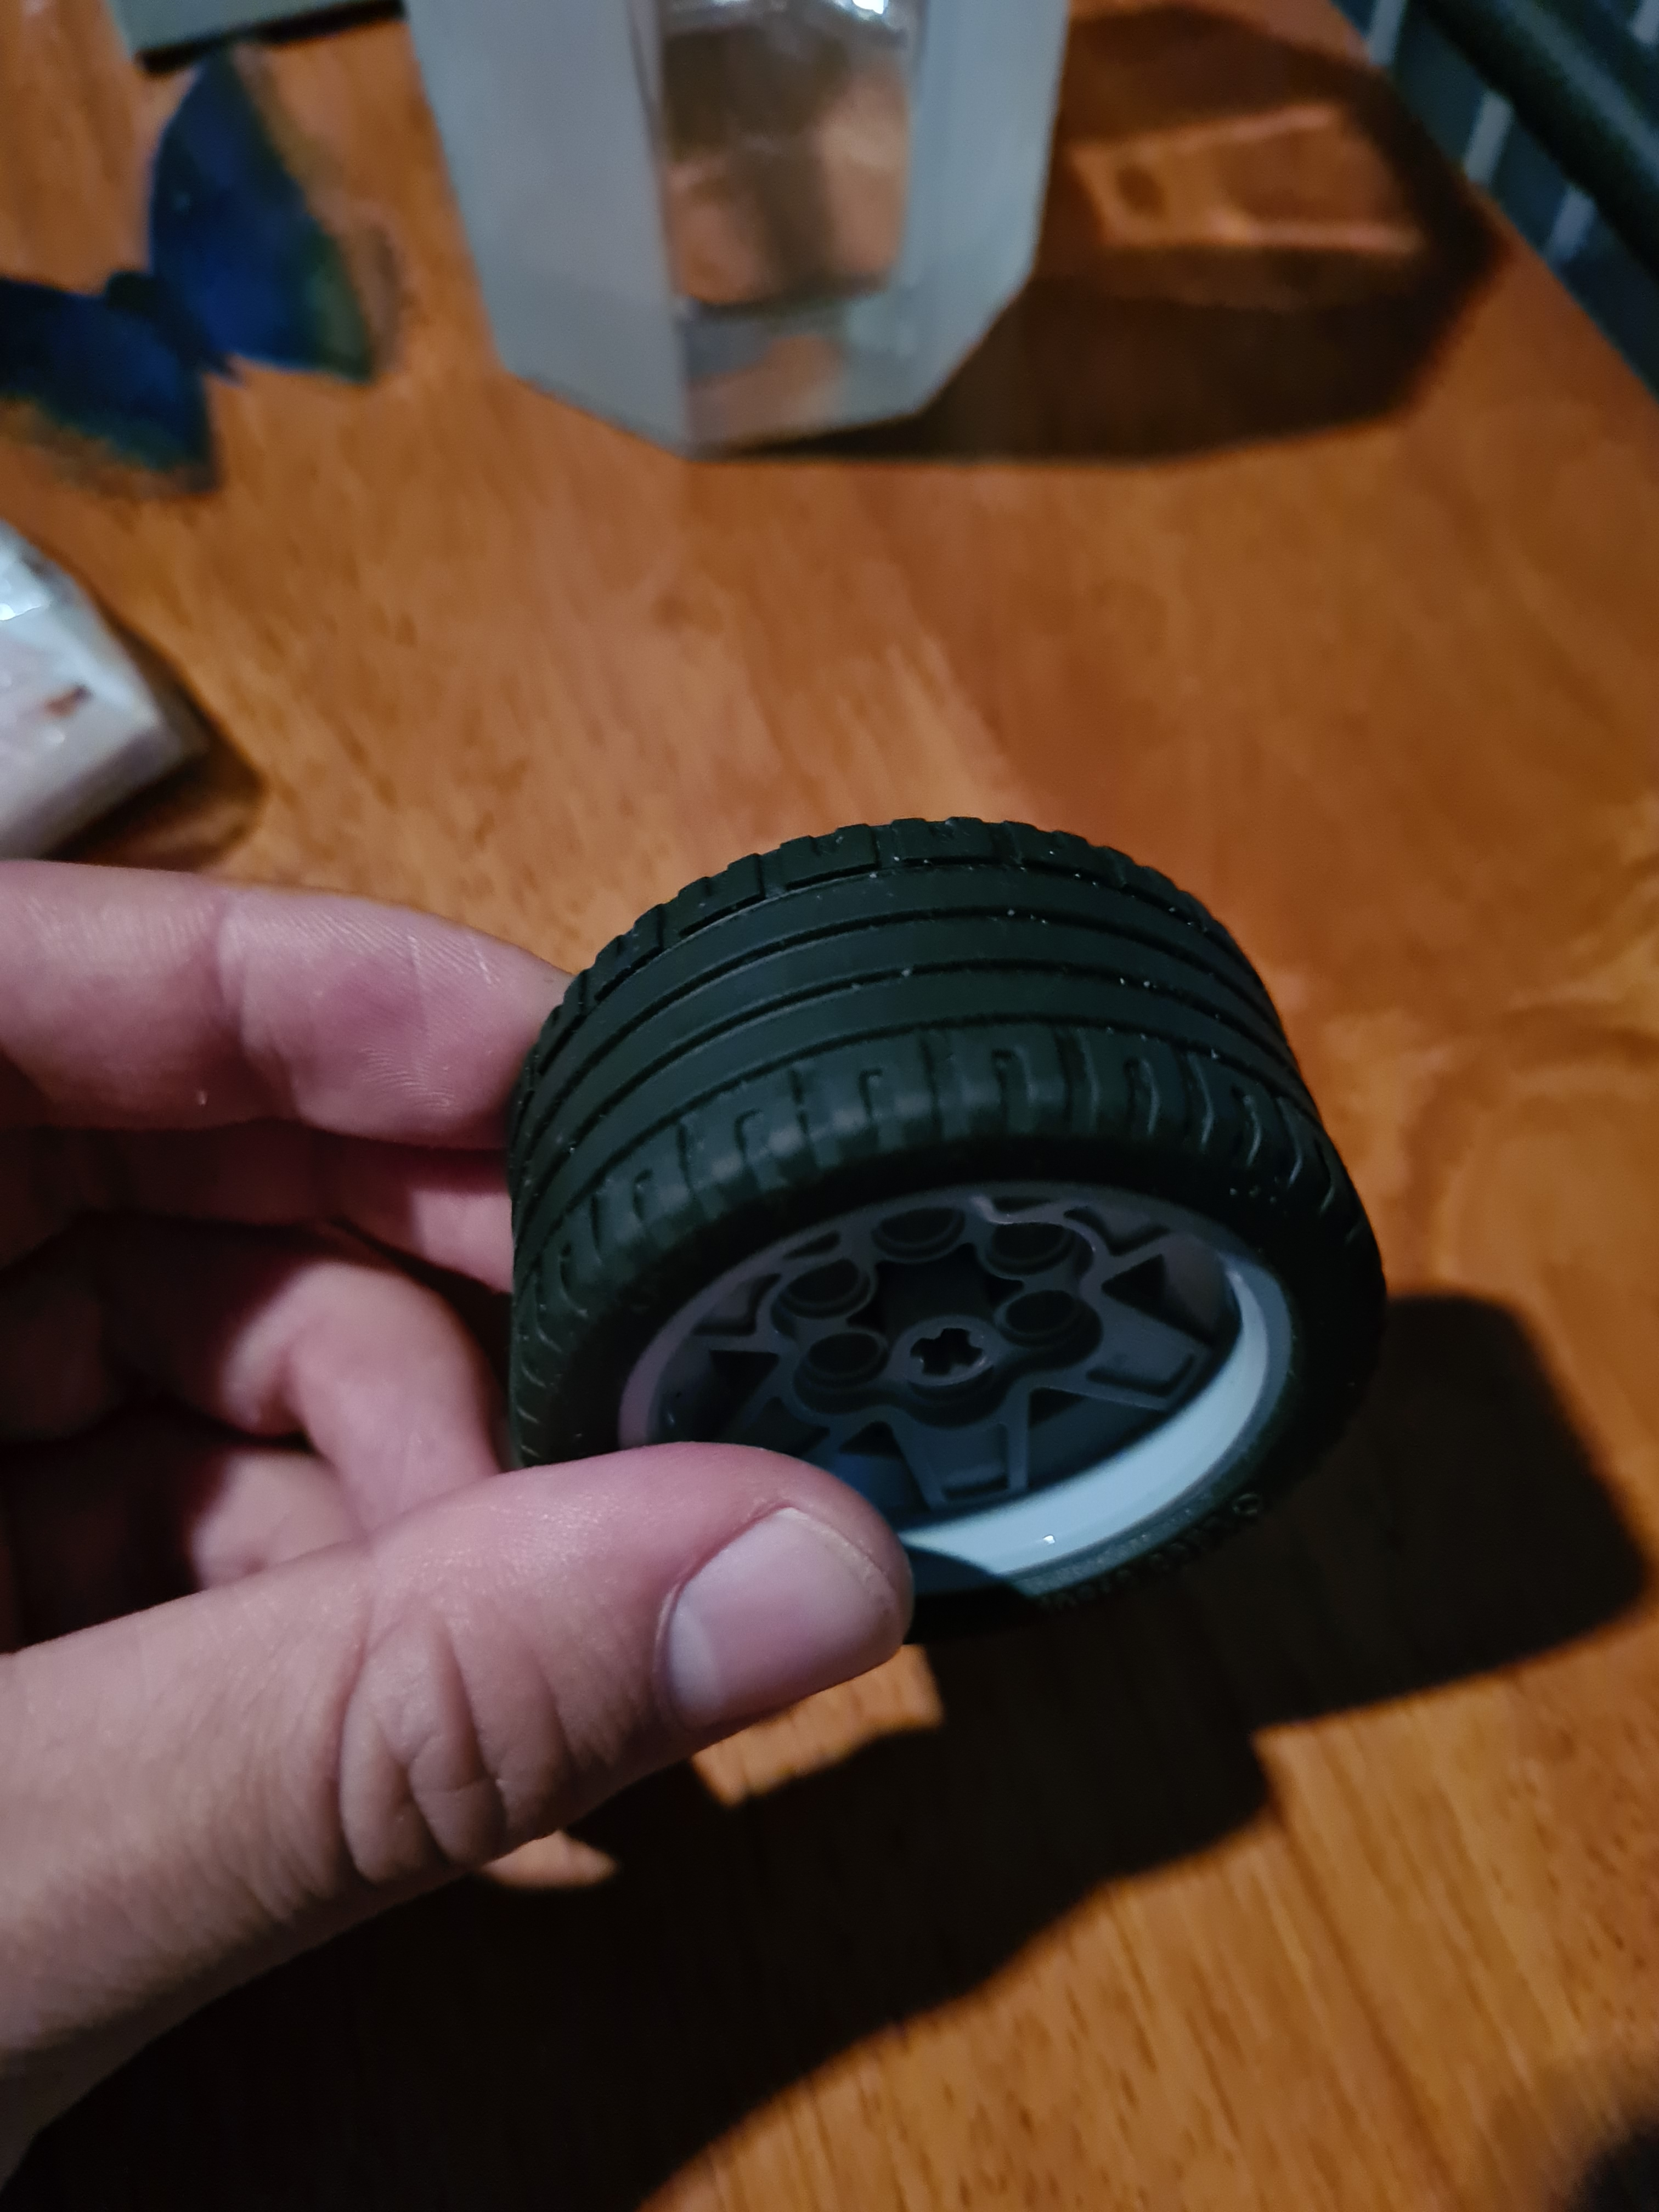Rad: (472, 791, 1410, 1672)
